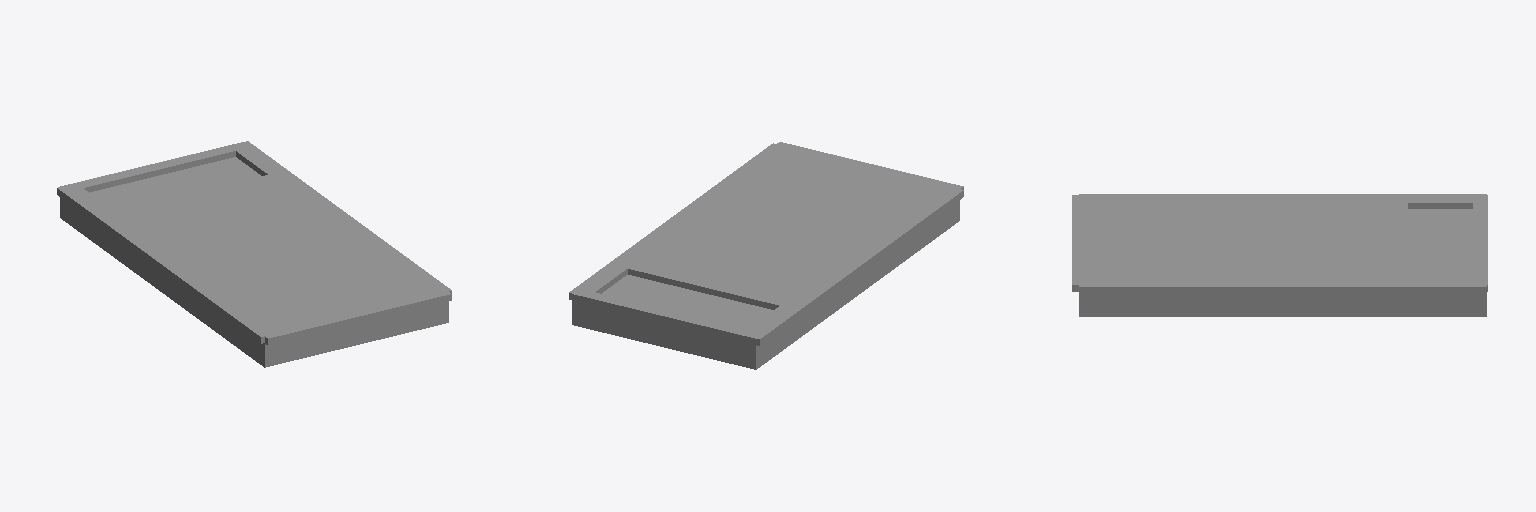
File: bedroll.obj
3 views of the same model, side by side, from view 1: azimuth 30°, elevation 25°; view 2: azimuth 150°, elevation 25°; view 3: azimuth 270°, elevation 25° (orthographic).
Parts seen in each view (by area): view 1: Cube_Cube.001; view 2: Cube_Cube.001; view 3: Cube_Cube.001.
Part boxes in pixels (x1,y1,x2,y2): Cube_Cube.001: (57, 141, 451, 367); Cube_Cube.001: (569, 142, 963, 369); Cube_Cube.001: (1072, 194, 1487, 316).
Size of the model in its own units: 1.08 by 0.1703 by 2.04.